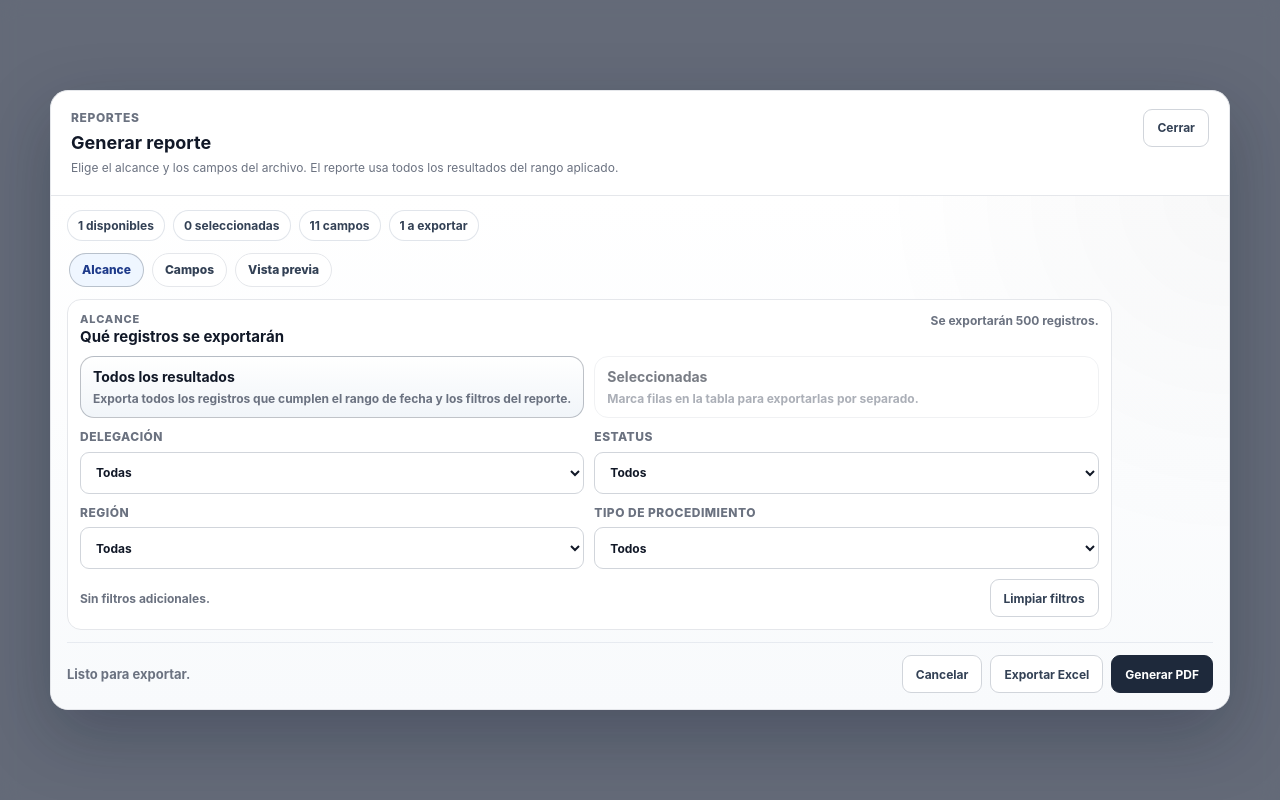
Scenario: InfraccionesReportModal limite de PDF › muestra el error del servidor si el limite cambia antes de generar PDF
Click the button "Generar PDF". click: (1162, 674)
box: x1=1111 y1=655 x2=1213 y2=693
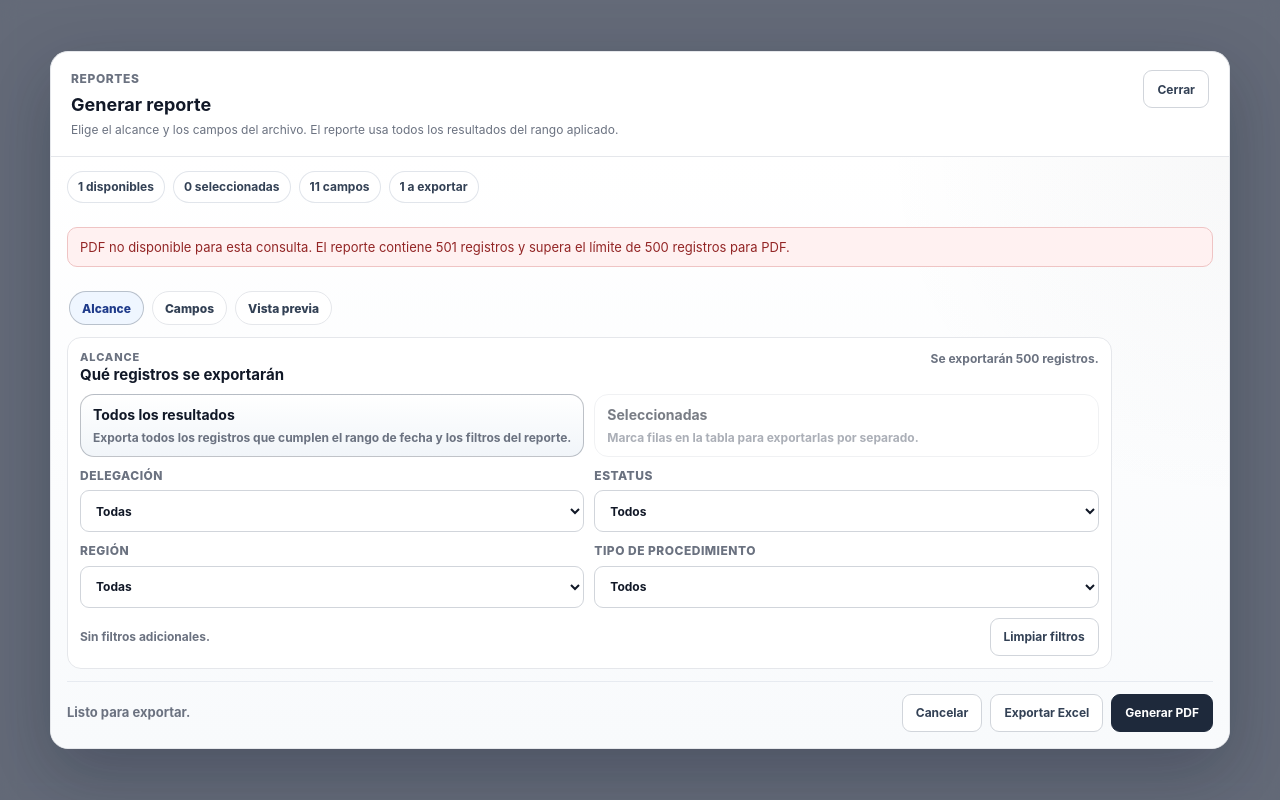
Check: the text "PDF no disponible para esta consulta. El reporte contiene 501 registros y supera el límite de 500 registros para PDF." is shown, box x1=80 y1=239 x2=790 y2=255
